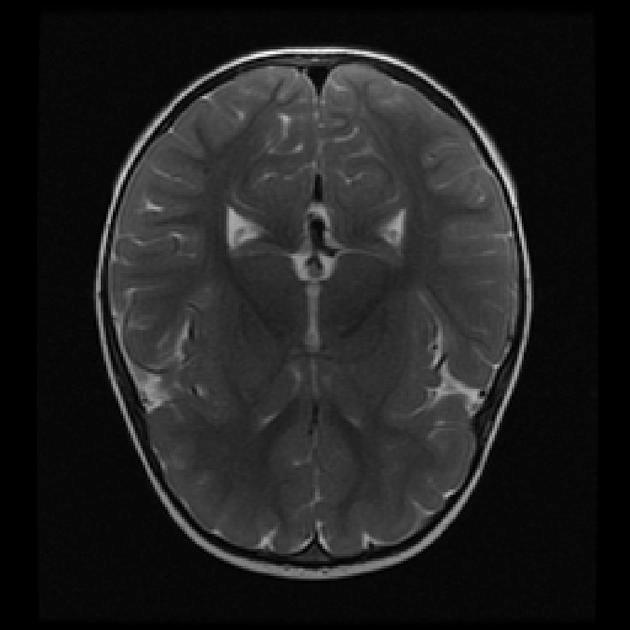Normal_Brain: (68, 1, 630, 630)
